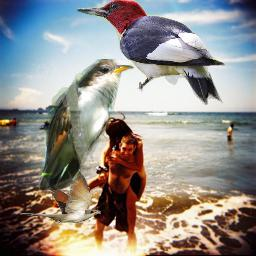Cuckoo: (39, 59, 134, 190), (20, 167, 101, 223)
Woodpecker: (77, 0, 225, 105)
